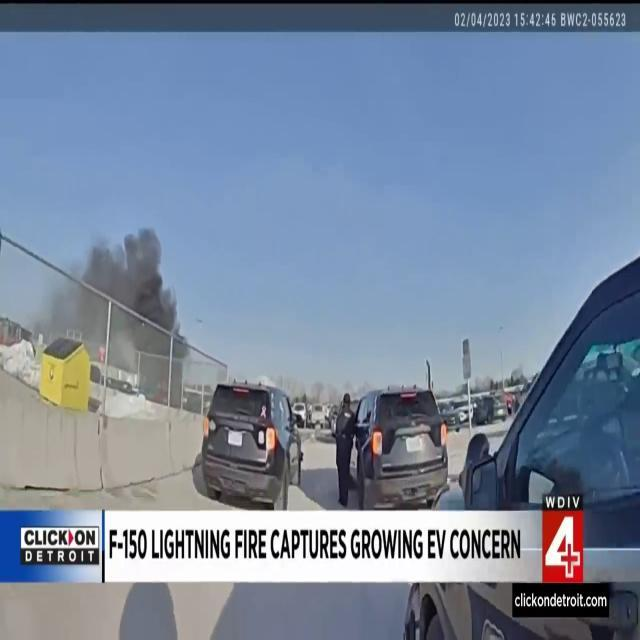Smoke: (66, 217, 185, 346)
